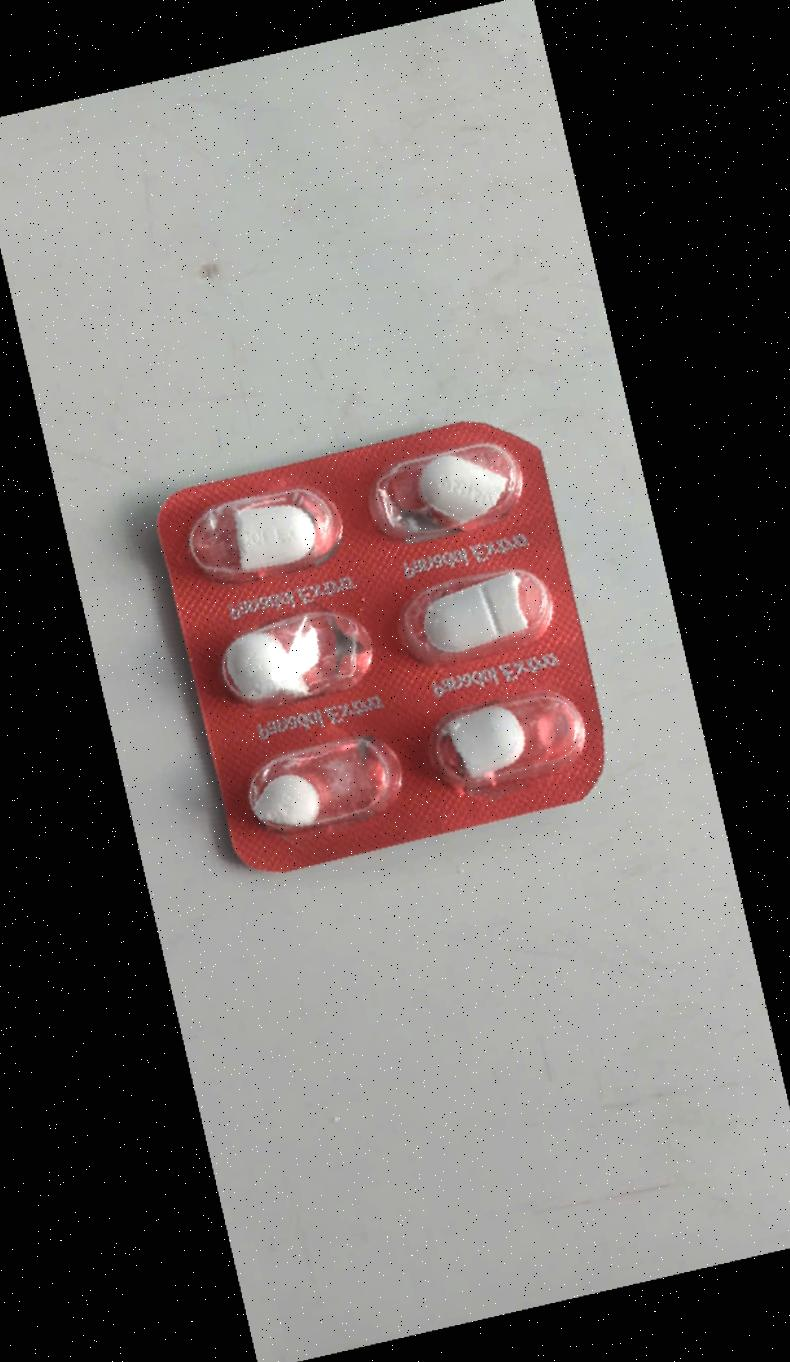Partial: (353, 432, 544, 564), (178, 465, 368, 597), (209, 599, 399, 731), (410, 681, 600, 813), (378, 550, 568, 682), (226, 727, 416, 859)
